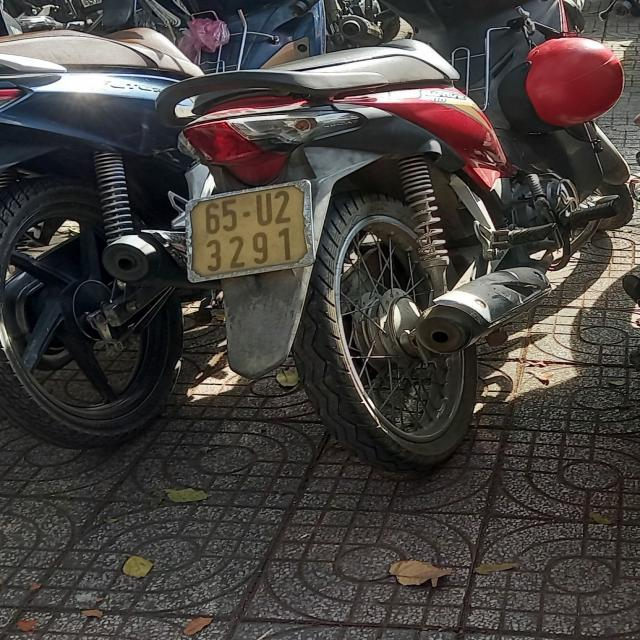1: (277, 227, 295, 263)
2: (273, 190, 294, 225), (228, 235, 247, 268)
3: (202, 239, 222, 273)
5: (221, 198, 239, 232)
6: (203, 202, 220, 234)
9: (252, 232, 270, 264)
U: (252, 192, 275, 227)
